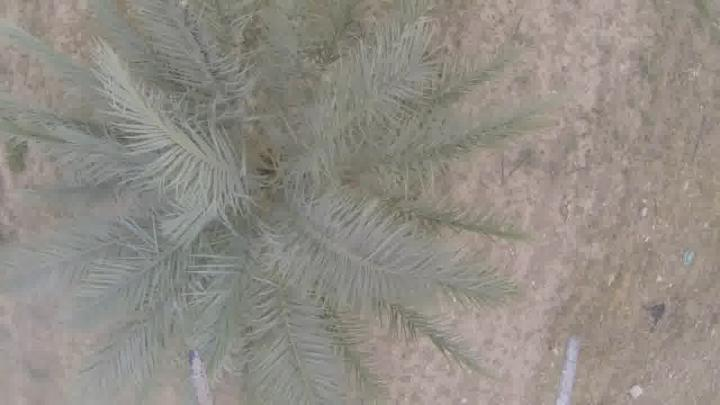Date-Palm-Crown: (132, 21, 410, 329)
